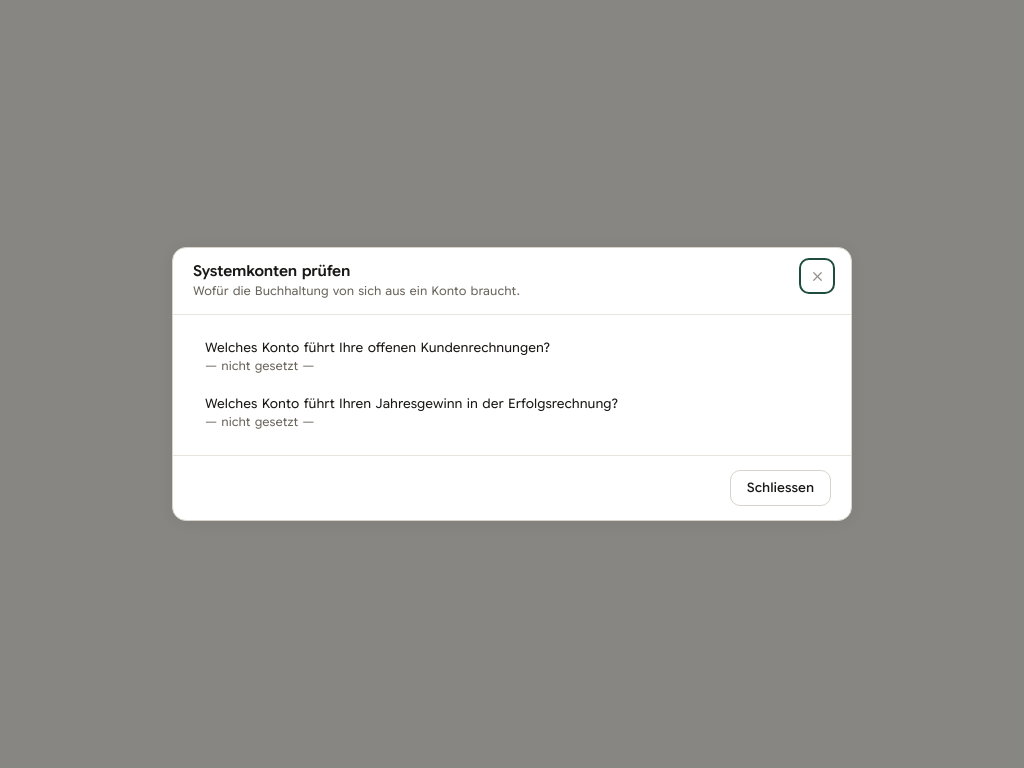
Test case: SystemAccountDialog › findsTheClosingAccountForTheClosingKeyTest
What coordinates should you click on to do the following:
click the 3rd button
I would click on:
 (512, 413)
Its box is [193,387,831,439].
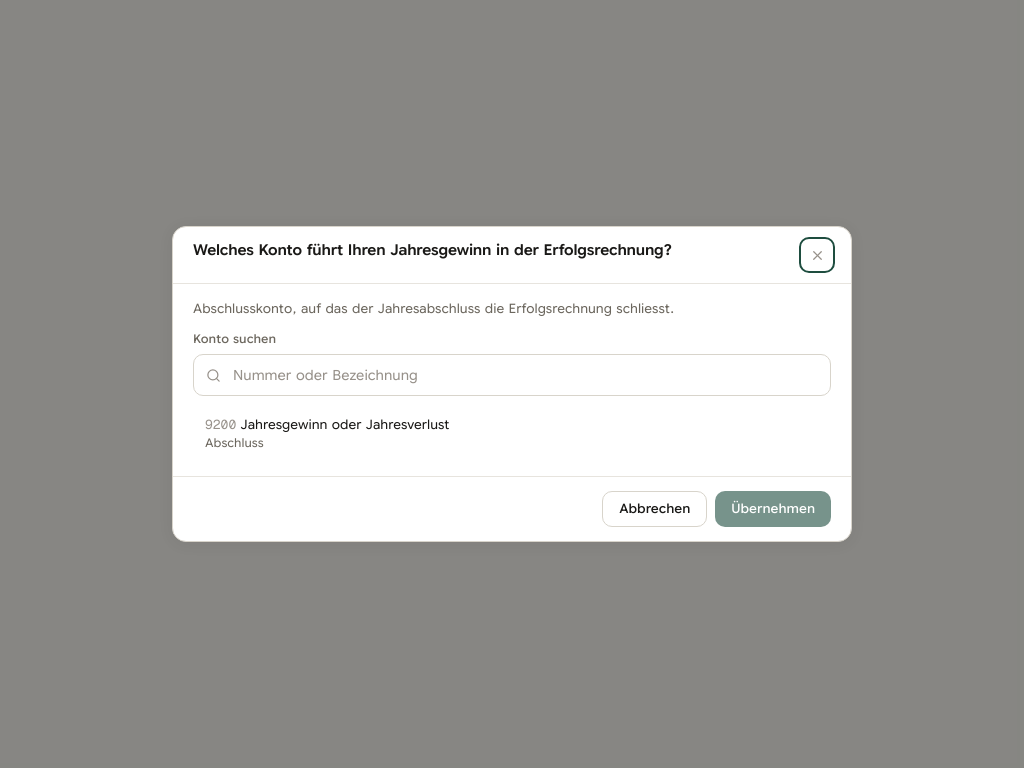
expect the text "9200" is shown: met, box [205,416,236,433]
expect the text "Jahresgewinn oder Jahresverlust" is shown: met, box [241,416,450,433]
expect the text "Abschlusskonto, auf das der Jahresabschluss" is shown: met, box [193,300,674,317]
